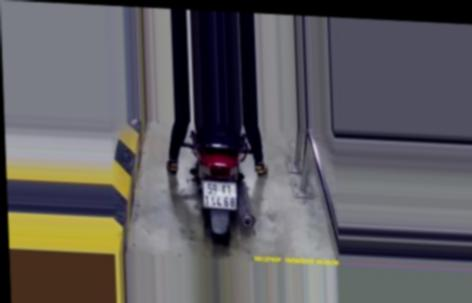License_Plate: (198, 178, 240, 212)
